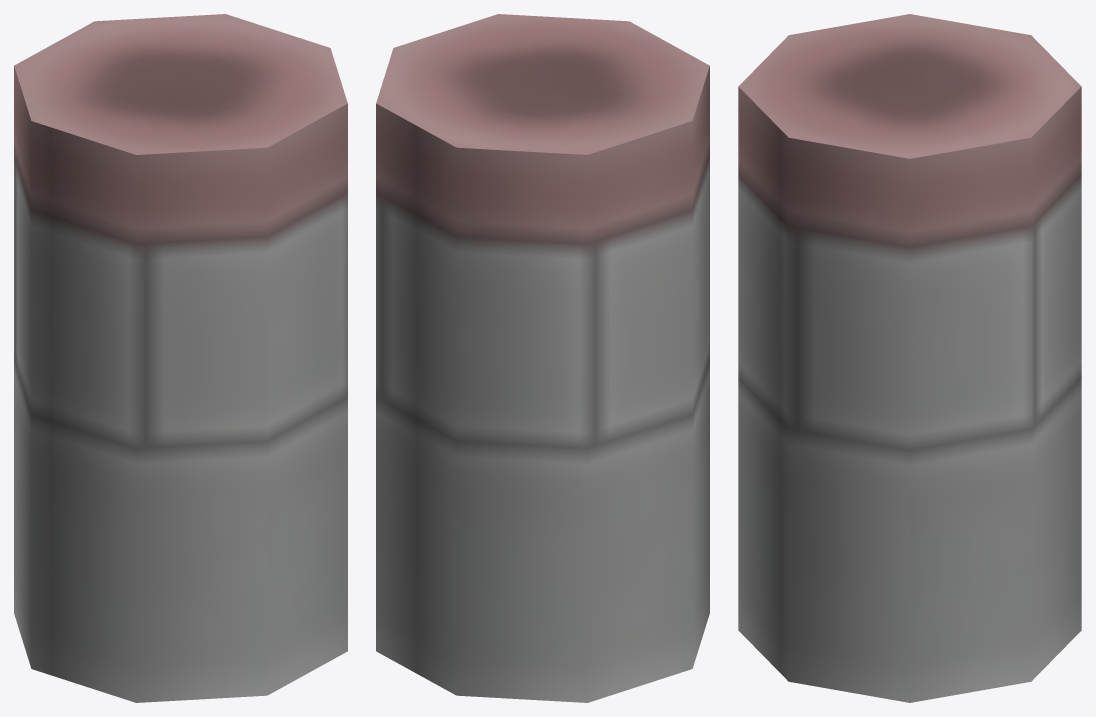
File: Eridani_Antenna_3_Base.obj
The picture shows the model from 3 angles, left to right: view 1: azimuth 30°, elevation 25°; view 2: azimuth 150°, elevation 25°; view 3: azimuth 270°, elevation 25°; orthographic projection.
Parts seen in each view (by area): view 1: Eridani_Antenna_3_Base; view 2: Eridani_Antenna_3_Base; view 3: Eridani_Antenna_3_Base.
Boxes of the visible parts, x1=… form: Eridani_Antenna_3_Base: x1=14, y1=14, x2=347, y2=702; Eridani_Antenna_3_Base: x1=376, y1=14, x2=709, y2=702; Eridani_Antenna_3_Base: x1=738, y1=14, x2=1081, y2=702.
Size of the model in its own units: 0.05 by 0.0875 by 0.05.
